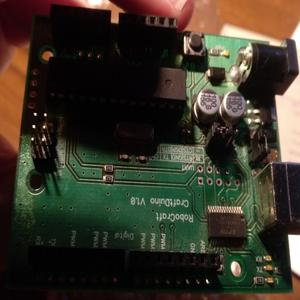duino: (15, 12, 291, 290)
